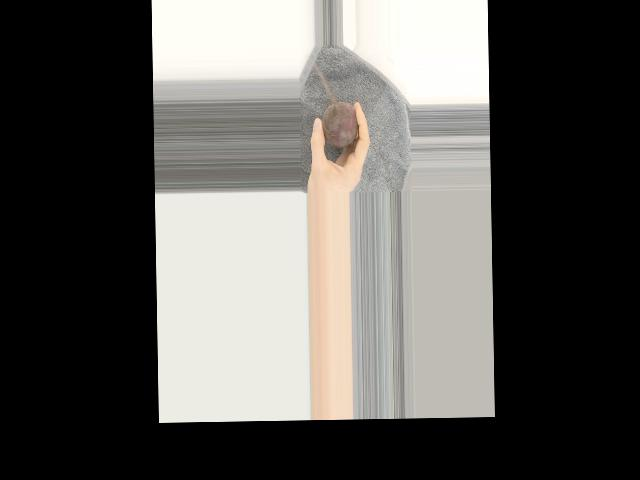beet: (321, 101, 358, 148)
